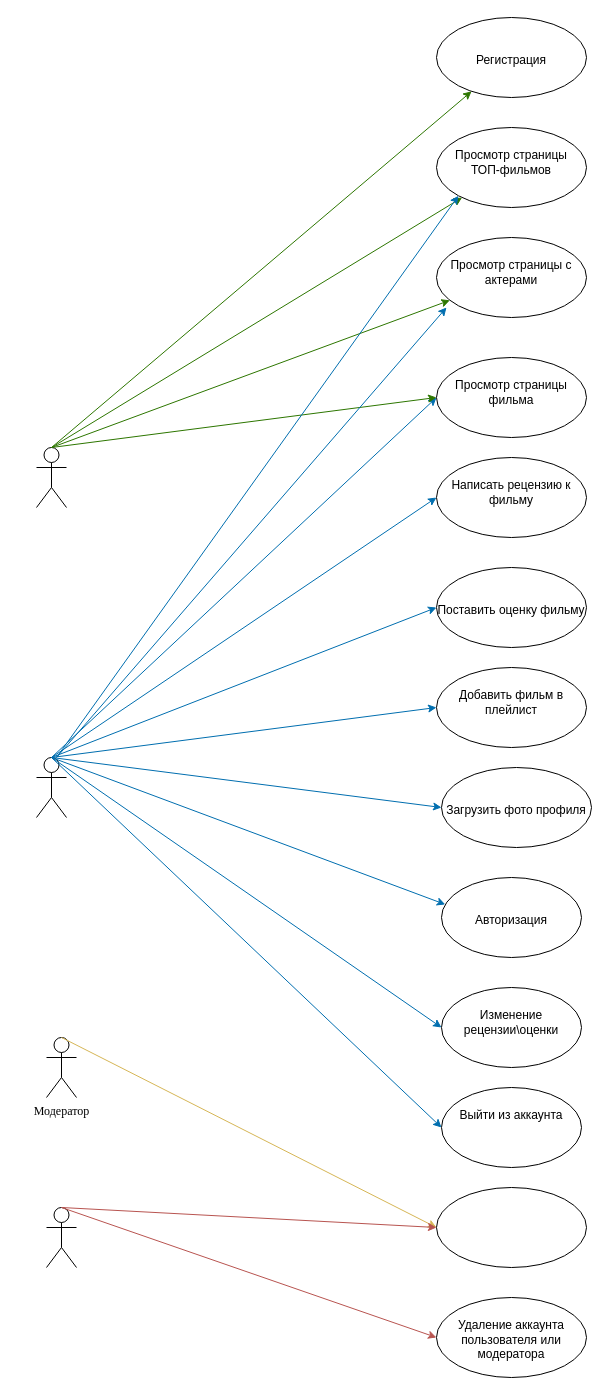
Image size: 609x1395. Some labels were removed from this diagram. Each missing label, with the centre of its shape:
Администратор: the point at 61,1237
Гость: the point at 51,477
Пользователь: the point at 51,787
Удаление рецензии пользователя: the point at 511,1227
